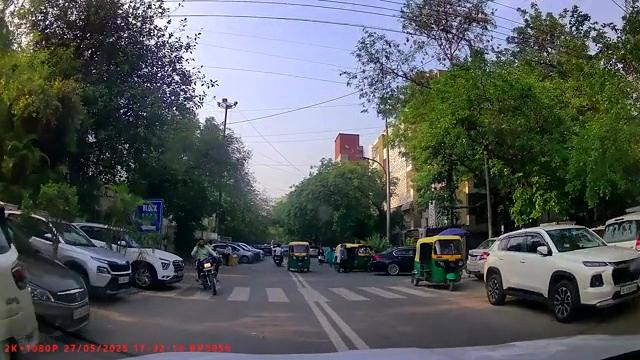motorcycle_without_helmet: (189, 236, 228, 295)
